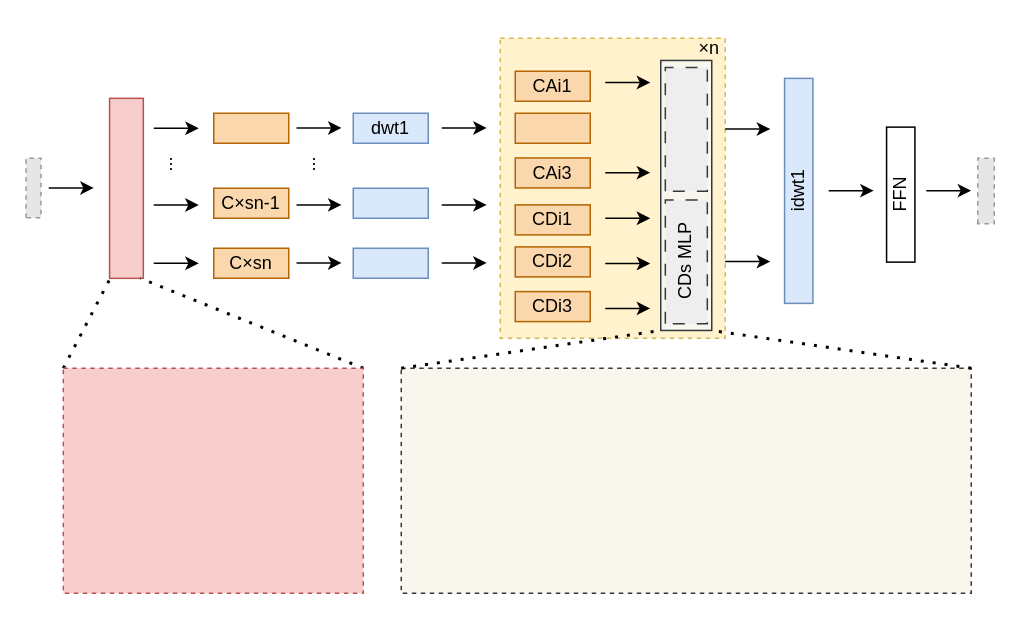
The diagram is 1022 pixels wide and 620 high, and some of its shapes have lost their labels. Grey dashed boxes stand in for pictures. Each missing label, with the centre of its shape:
CAi2: the point at 552,127
CAs MLP: the point at 685,128
C×s1: the point at 250,127
dwt2: the point at 390,202
dwt3: the point at 390,262
multi-patch embedding: the point at 125,187
